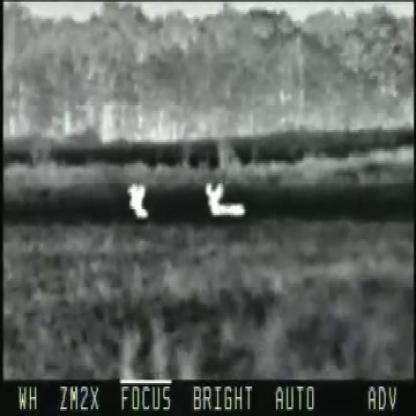rehkitze: (204, 180, 247, 223), (127, 181, 146, 223)
